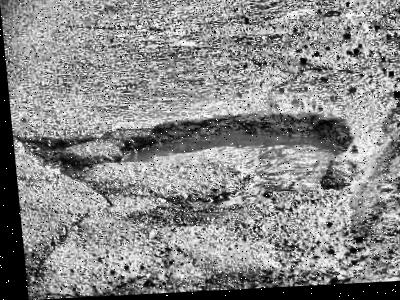pothole: (105, 109, 359, 215), (13, 132, 103, 186)
